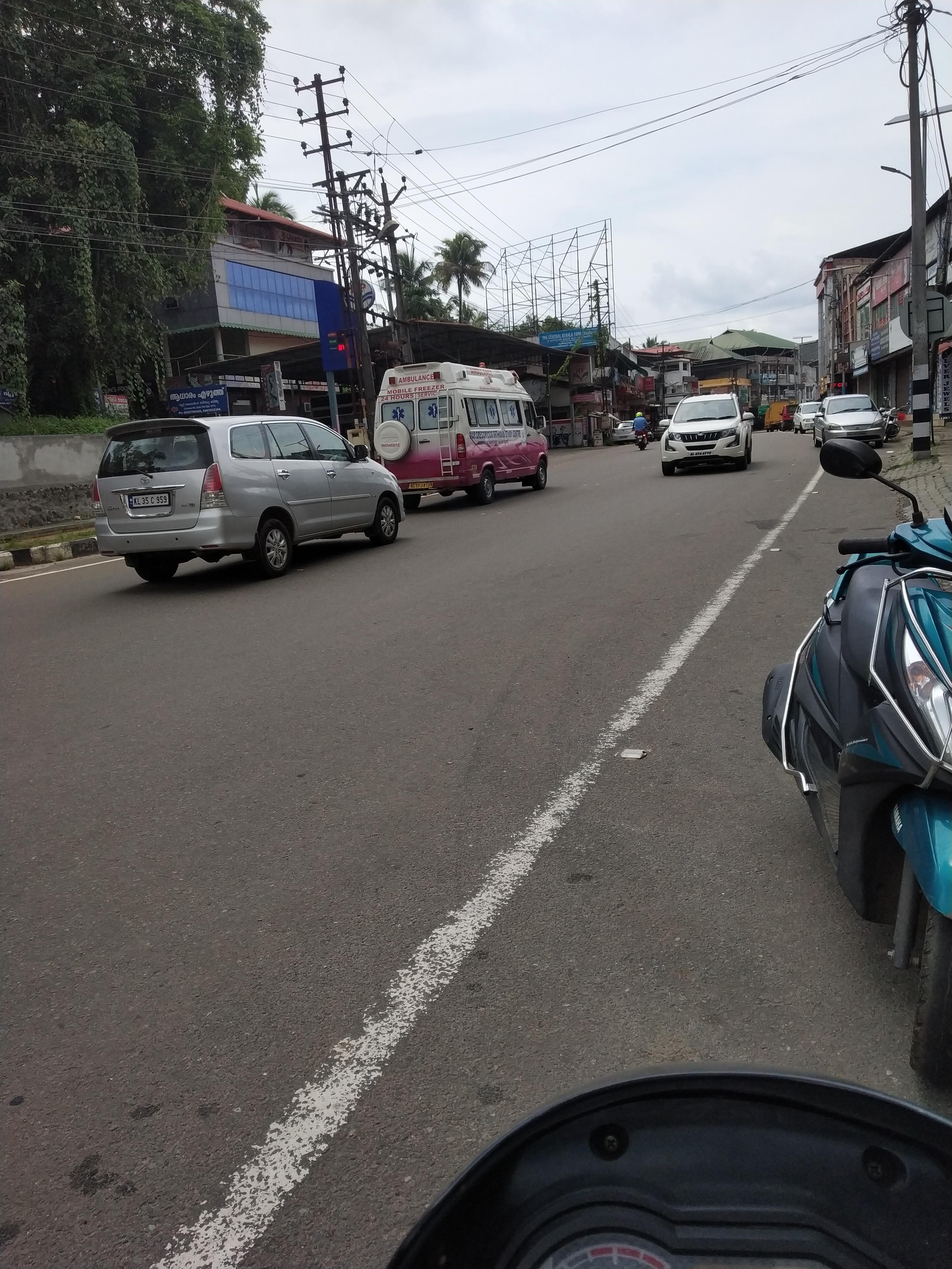Non-emergency: (93, 392, 413, 598), (357, 316, 620, 513), (649, 370, 773, 505)
